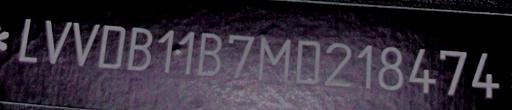letter: (257, 32, 293, 83), (469, 48, 503, 99), (438, 46, 468, 98), (376, 42, 406, 94), (323, 41, 355, 89), (408, 44, 438, 95), (70, 20, 102, 66), (44, 17, 72, 66), (294, 37, 322, 86), (98, 22, 126, 70), (125, 24, 153, 71), (227, 33, 255, 79), (197, 30, 223, 78), (16, 17, 38, 64), (356, 39, 374, 92), (157, 28, 175, 74), (177, 29, 195, 75)
